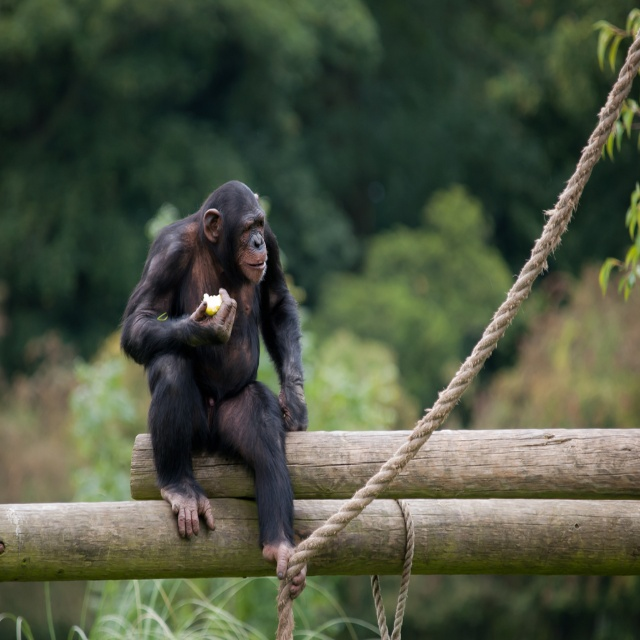Monkey: (121, 180, 306, 595)
